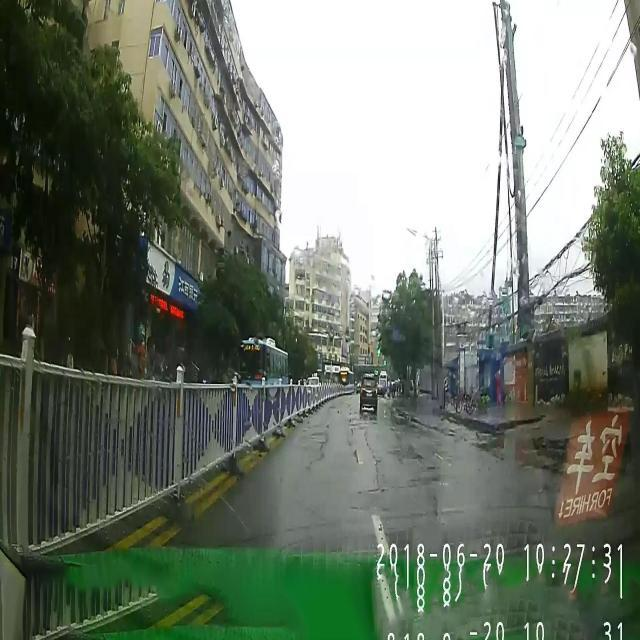car: (358, 371, 378, 418)
